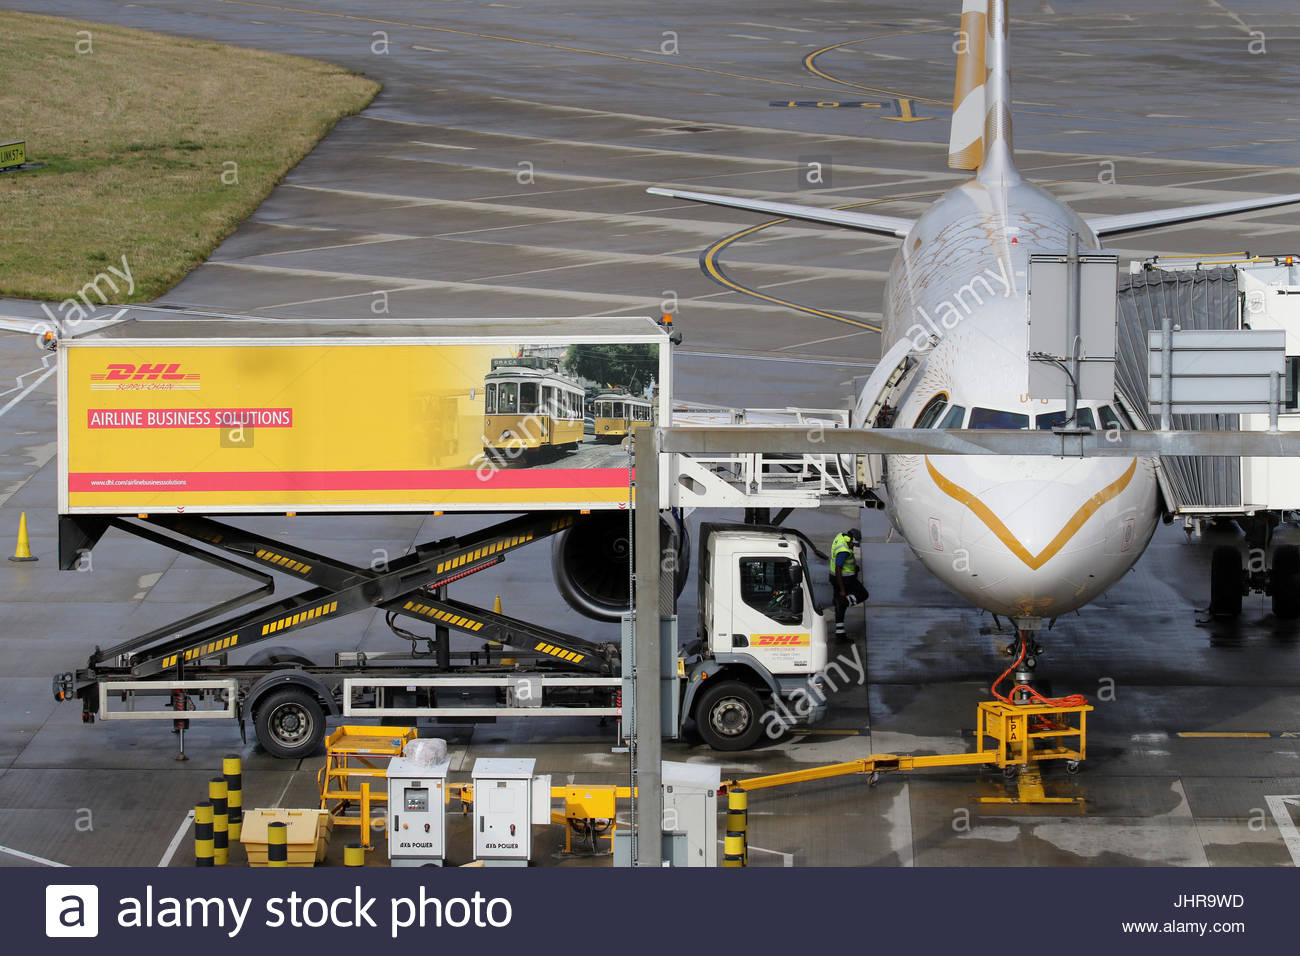Catering truck: (37, 313, 927, 757)
